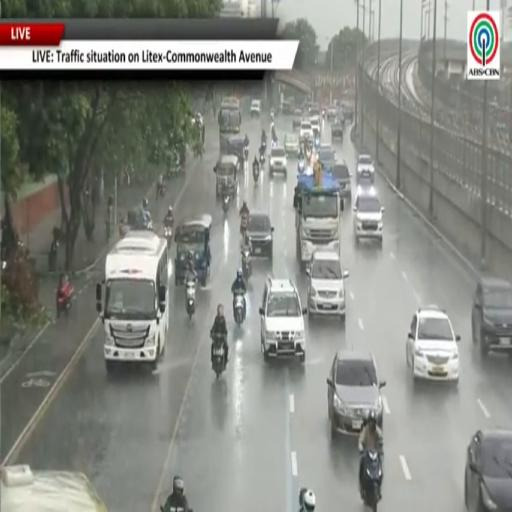bus: (96, 231, 169, 372)
car: (327, 350, 385, 437), (0, 464, 106, 511), (406, 306, 460, 383), (259, 278, 307, 362), (464, 429, 511, 511), (472, 276, 511, 356), (307, 251, 348, 319), (353, 187, 384, 244), (246, 212, 273, 260), (332, 160, 351, 210), (357, 154, 374, 184), (269, 147, 287, 175), (318, 144, 335, 172), (284, 134, 299, 156), (331, 119, 344, 141), (300, 121, 313, 141), (342, 103, 354, 124), (292, 109, 303, 130), (250, 100, 261, 118), (327, 105, 338, 121), (310, 117, 320, 134), (308, 103, 320, 117), (282, 101, 293, 115)
jeepney: (175, 215, 211, 285), (214, 155, 240, 198)
motorcycle: (360, 451, 382, 511), (212, 334, 226, 378), (57, 282, 74, 317), (186, 280, 196, 319), (48, 240, 59, 271), (234, 294, 244, 326), (242, 248, 251, 282), (164, 226, 172, 248), (222, 194, 230, 215), (240, 213, 248, 234), (298, 159, 306, 174), (143, 219, 153, 230), (253, 166, 259, 184), (157, 183, 164, 198), (243, 145, 249, 162), (315, 135, 320, 150), (259, 152, 264, 167), (261, 139, 266, 152), (322, 110, 326, 119), (185, 508, 193, 511)
truck: (294, 170, 340, 270), (218, 98, 241, 135)
